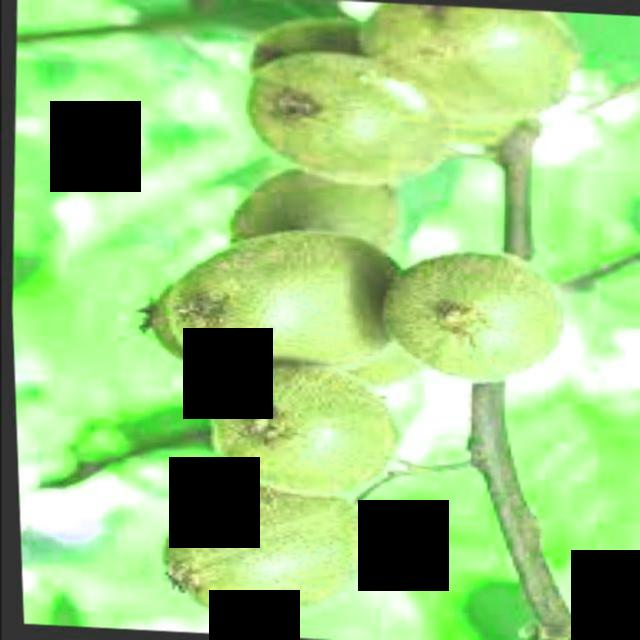kiwi: (161, 222, 400, 378), (153, 476, 377, 624), (240, 48, 457, 186), (361, 3, 586, 132), (206, 356, 407, 500), (376, 243, 573, 385), (226, 170, 413, 262)
